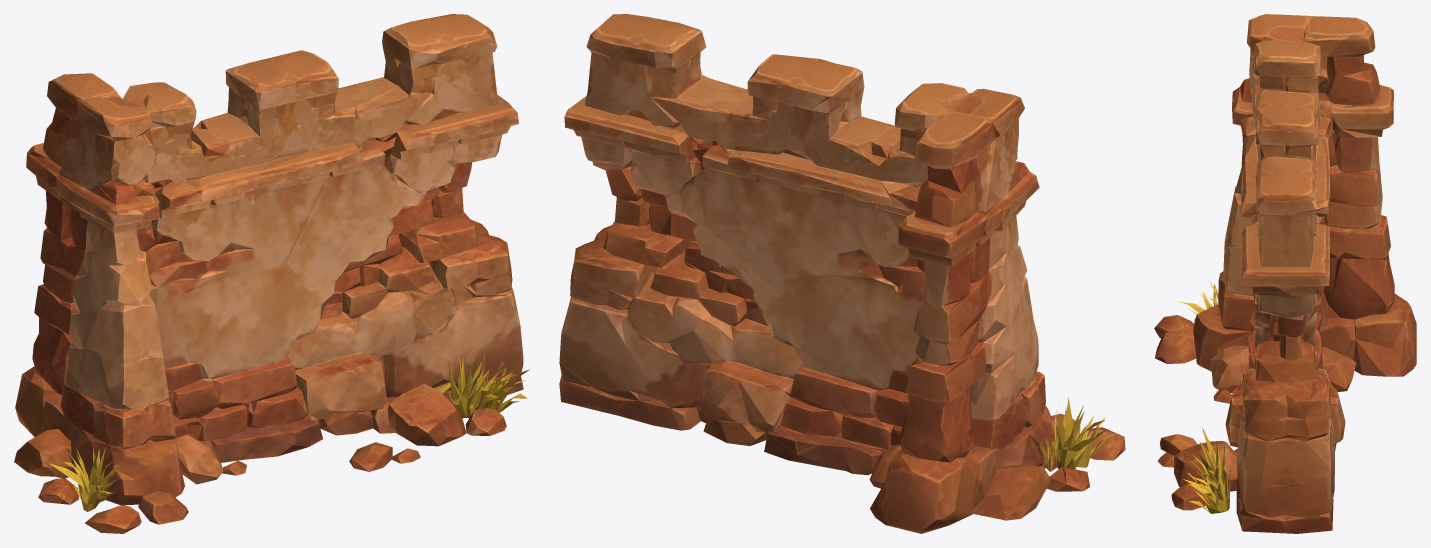
Rendered from wall.glb.
3 renders of one model, left to right at view 1: azimuth 30°, elevation 25°; view 2: azimuth 150°, elevation 25°; view 3: azimuth 270°, elevation 25°, orthographic. The views are drawn at different scales.
Parts seen in each view (by area): view 1: output_unwrapped; view 2: output_unwrapped; view 3: output_unwrapped.
Boxes of the visible parts, left/top/right/bottom form: output_unwrapped: left=14, top=14, right=529, bottom=533; output_unwrapped: left=559, top=14, right=1125, bottom=533; output_unwrapped: left=1154, top=14, right=1416, bottom=533.
Bounding box in the file's own units: 1.86 × 1.35 × 0.9592.
1 material, 1 textured.
